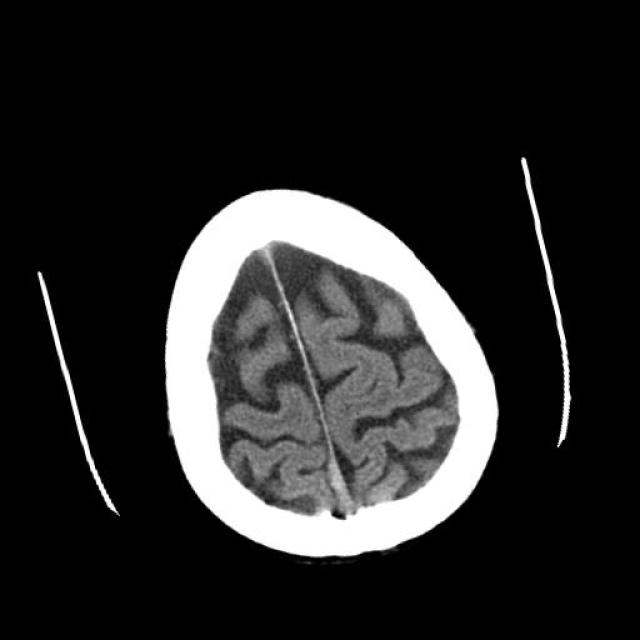Subdural: (286, 412, 424, 560)
